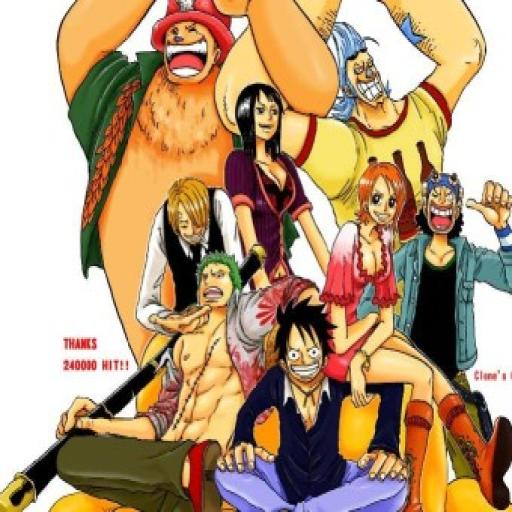Luffy: (260, 292, 338, 404)
Nami: (354, 160, 414, 234)
NicoRobin: (227, 82, 290, 169)
Usopp: (412, 168, 472, 242)
Zoro: (191, 252, 250, 314)
sanji: (163, 173, 220, 251)
